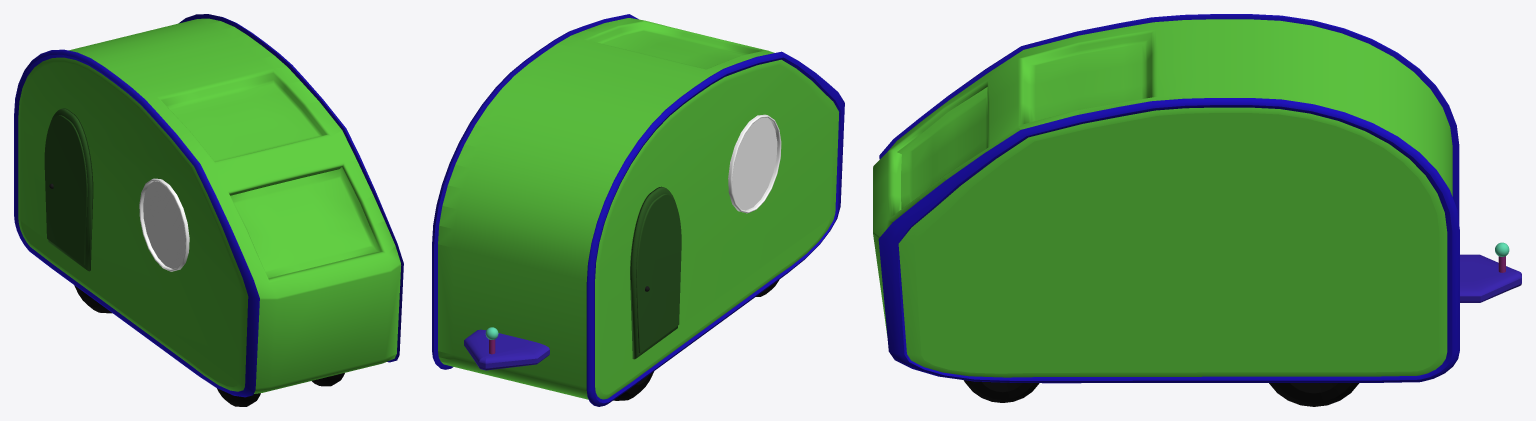
File: rvPR2.fbx
3 views of the same model, side by side, from view 1: azimuth 30°, elevation 25°; view 2: azimuth 150°, elevation 25°; view 3: azimuth 270°, elevation 25° (orthographic). The views are drawn at different scales.
Visible parts, largest first — view 1: rvBody001, Door_low, Object, window_Low, Object005, Wheel007; view 2: rvBody001, Door_low, Object, window_Low, Object005, Box006; view 3: rvBody001, Object005, Object, Box006, Wheel005, Wheel006.
Part boxes in pixels (x1,y1,x2,y2): rvBody001: [18, 18, 401, 393]; Door_low: [44, 108, 93, 271]; Object: [14, 49, 259, 397]; window_Low: [139, 178, 189, 271]; Object005: [178, 14, 403, 362]; Wheel007: [217, 388, 260, 406]; rvBody001: [438, 18, 838, 399]; Door_low: [630, 186, 681, 359]; Object: [586, 51, 844, 406]; window_Low: [728, 114, 781, 213]; Object005: [432, 14, 638, 369]; Box006: [464, 329, 549, 370]; rvBody001: [873, 19, 1452, 377]; Object005: [878, 98, 1459, 383]; Object: [879, 14, 1459, 223]; Box006: [1460, 254, 1521, 302]; Wheel005: [1269, 383, 1359, 406]; Wheel006: [963, 380, 1039, 402].
Size of the model in its own units: 155 by 249 by 455.
